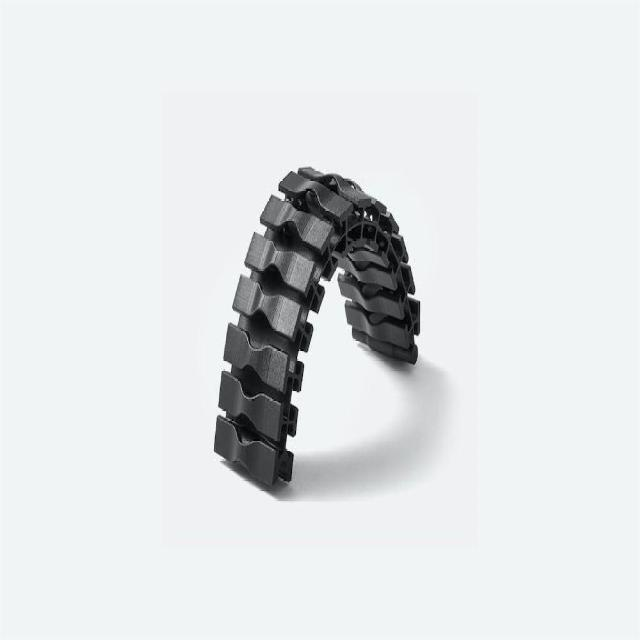Without deffect: (208, 140, 434, 502)
